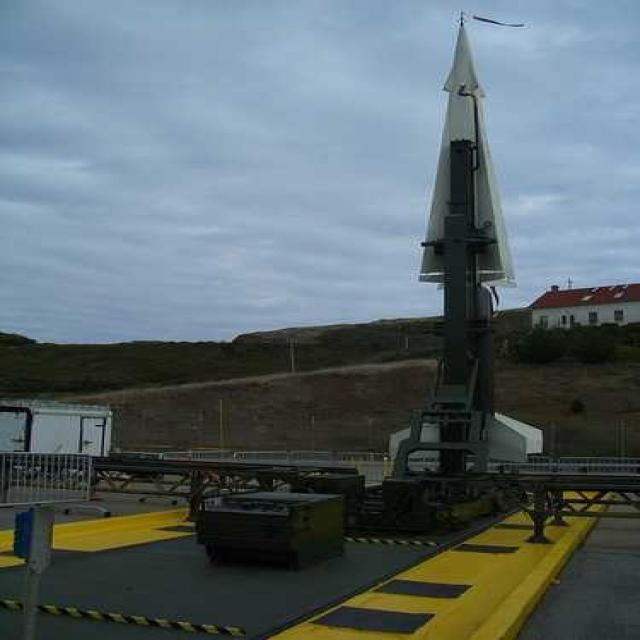missile: (422, 11, 514, 286)
